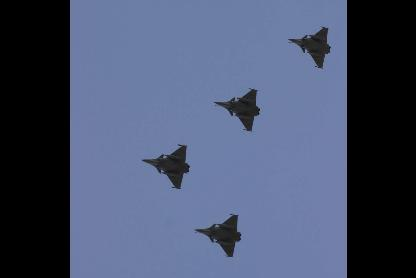RQ4: (140, 145, 188, 190), (212, 88, 260, 132), (192, 215, 240, 258), (286, 27, 330, 69)
